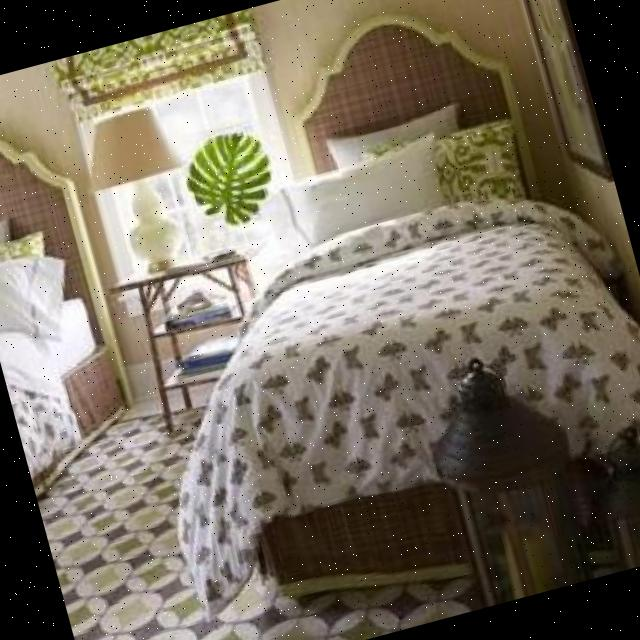Bed: (57, 0, 640, 640), (0, 99, 166, 533)
